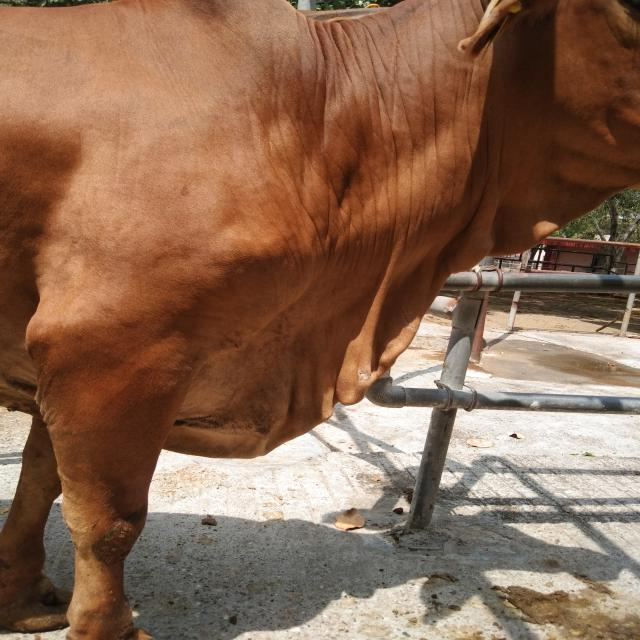Hoof: (0, 575, 72, 633)
